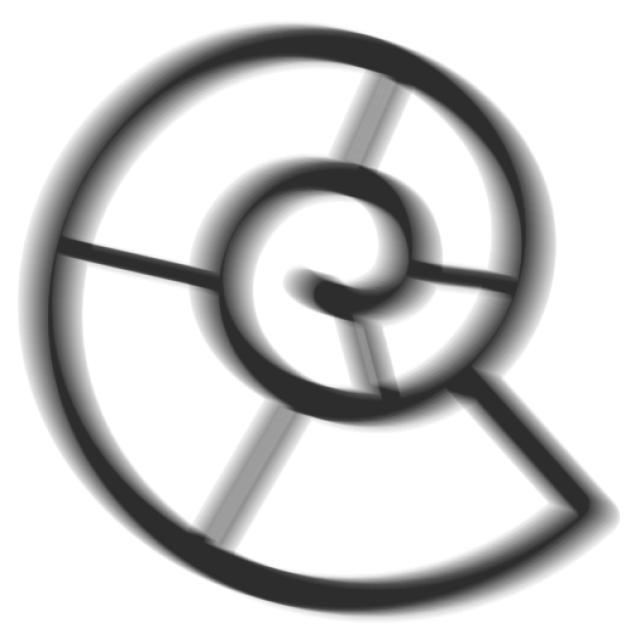fossil: (11, 12, 631, 635)
